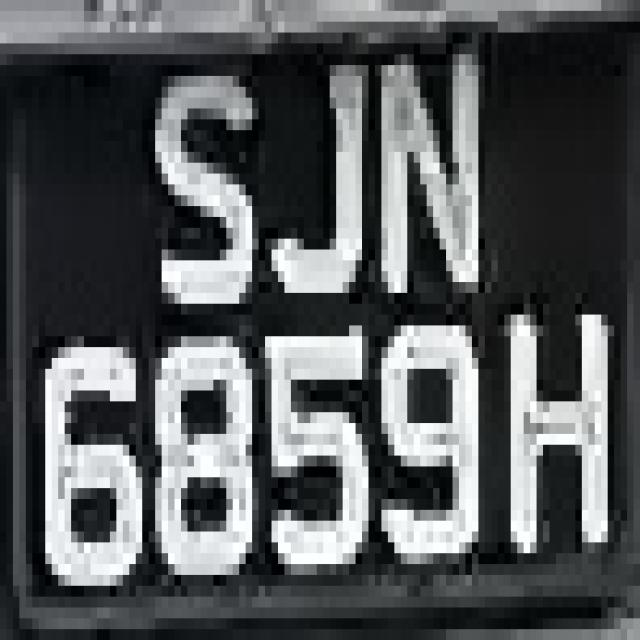5: (252, 271, 375, 586)
6: (26, 293, 149, 618)
8: (123, 293, 278, 586)
9: (375, 304, 478, 575)
H: (504, 271, 621, 597)
J: (265, 22, 381, 314)
N: (368, 43, 492, 314)
S: (142, 22, 265, 336)
